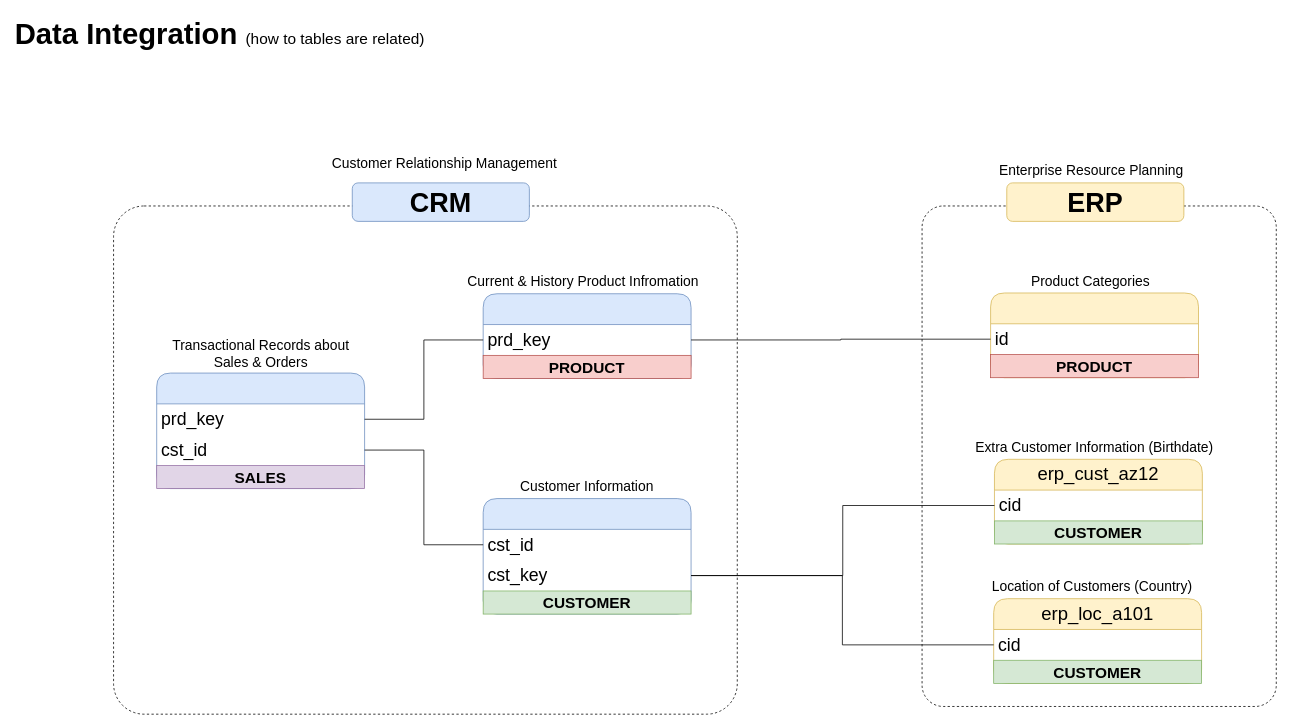
Image size: 1290x728. Some labels were removed from this diagram. The shapes that lost their labels are listed below. From the top down, each one's box as (x1, y1, x2, y2) in pixels, then its label:
(482, 293, 691, 378): crm_prd_info
(990, 292, 1199, 378): erp_px_cat_g1v2
(156, 372, 365, 489): crm_sales_details
(482, 498, 691, 614): crm_cust_info
